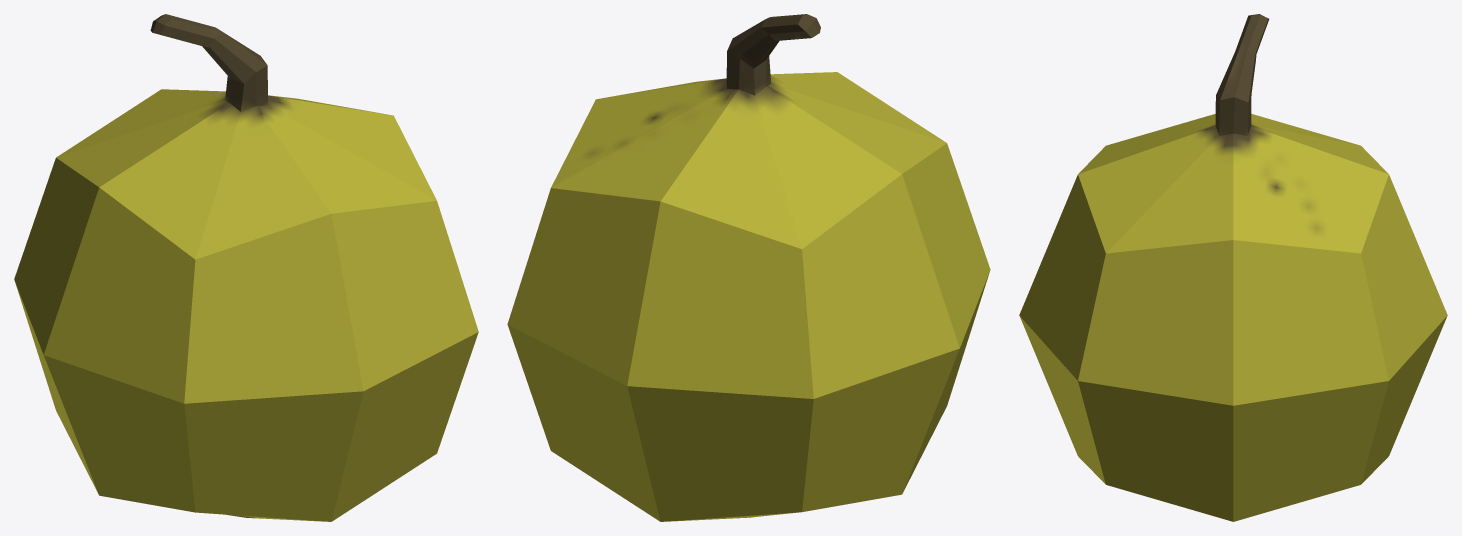
The model's file is aple.fbx.
The picture shows the model from 3 angles, left to right: view 1: azimuth 30°, elevation 25°; view 2: azimuth 150°, elevation 25°; view 3: azimuth 270°, elevation 25°; orthographic projection. The views are drawn at different scales.
Parts seen in each view (by area): view 1: aple; view 2: aple; view 3: aple.
Part boxes in pixels (<box>): aple: <box>14,14,478,521</box>; aple: <box>507,14,990,521</box>; aple: <box>1019,14,1447,521</box>.
Bounding box in the file's own units: 1.51 × 1.81 × 1.51.
